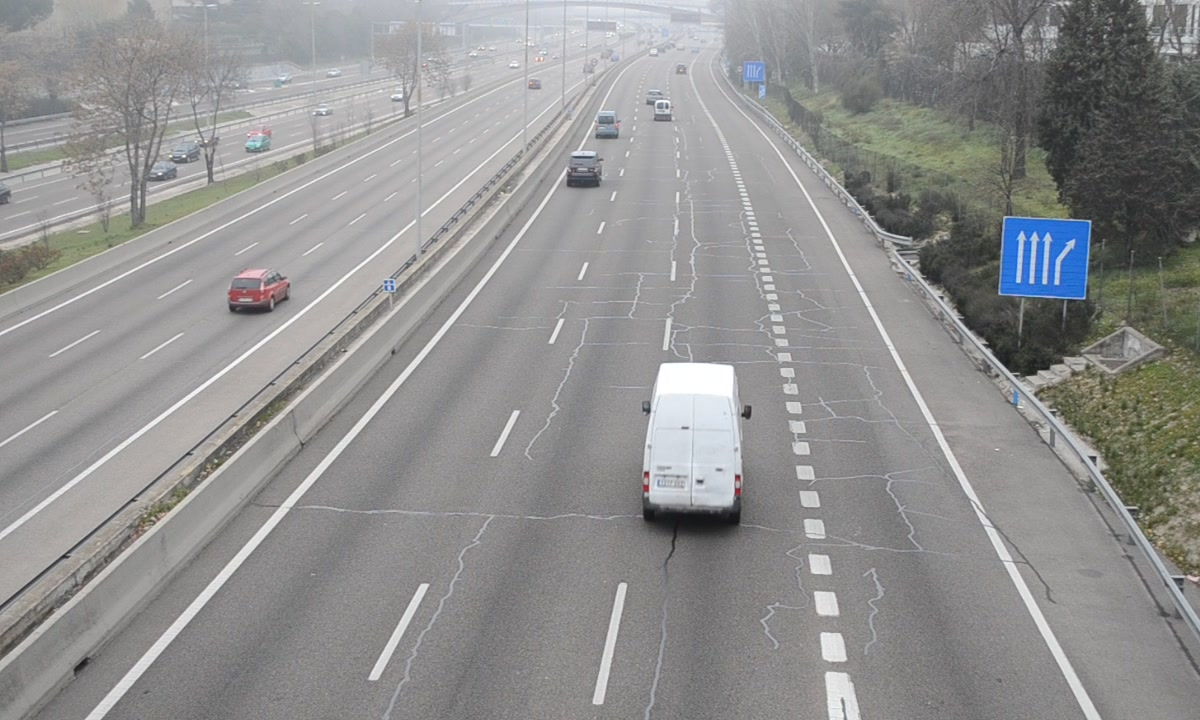car: (567, 150, 603, 188)
van: (644, 364, 743, 524), (593, 109, 620, 139)
